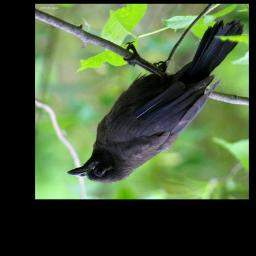Crow: (67, 18, 246, 184)
